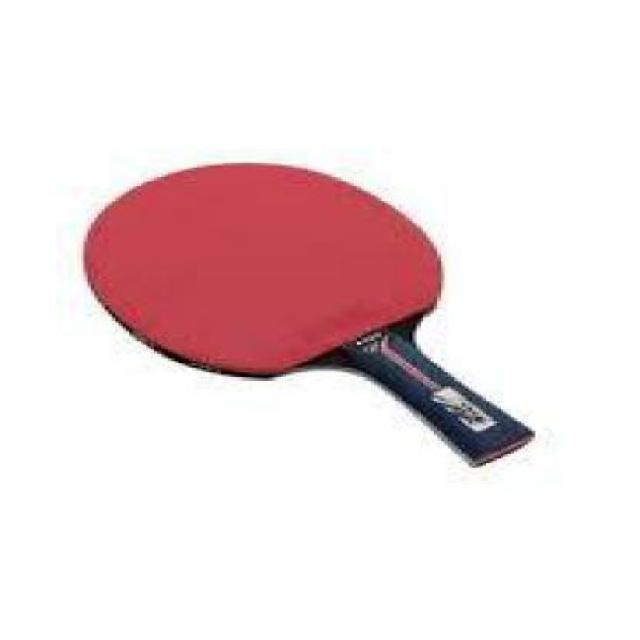table_tennis_racket: (71, 158, 458, 378)
